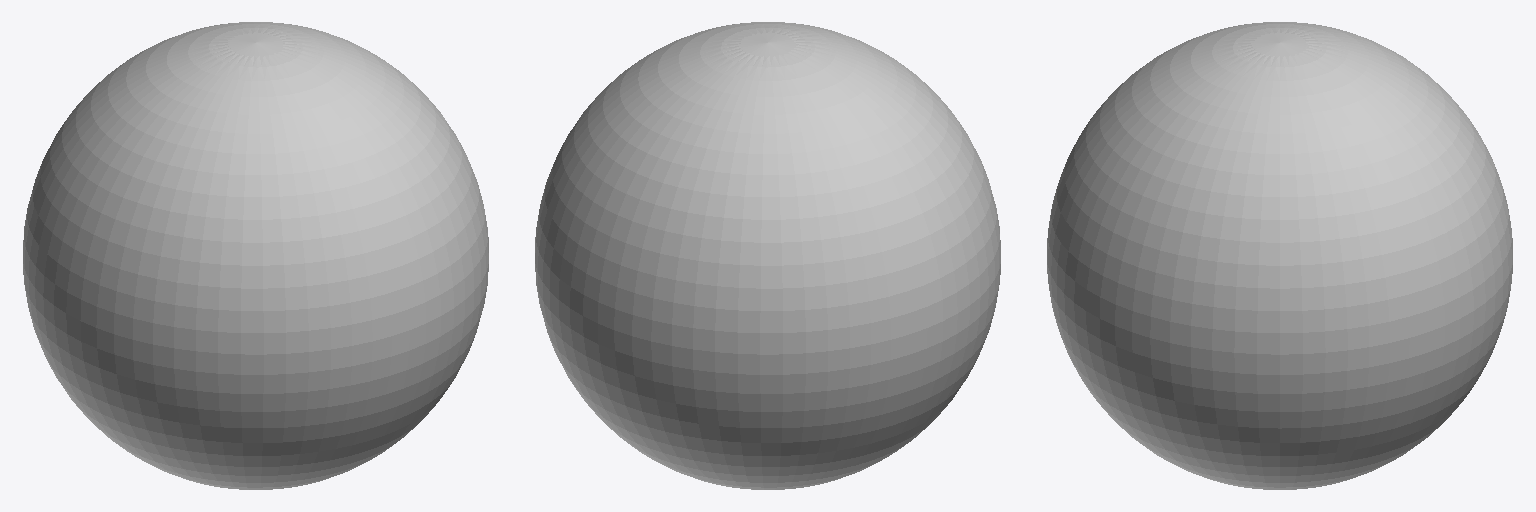
The picture shows the model from 3 angles: view 1: azimuth 30°, elevation 25°; view 2: azimuth 150°, elevation 25°; view 3: azimuth 270°, elevation 25°; orthographic projection.
Visible parts, largest first — view 1: Debug Sphere; view 2: Debug Sphere; view 3: Debug Sphere.
Boxes of the visible parts, <box> form: Debug Sphere: <box>23,22,488,489</box>; Debug Sphere: <box>535,22,1000,489</box>; Debug Sphere: <box>1047,22,1512,489</box>.
Bounding box in the file's own units: 1.98 × 2 × 1.98.